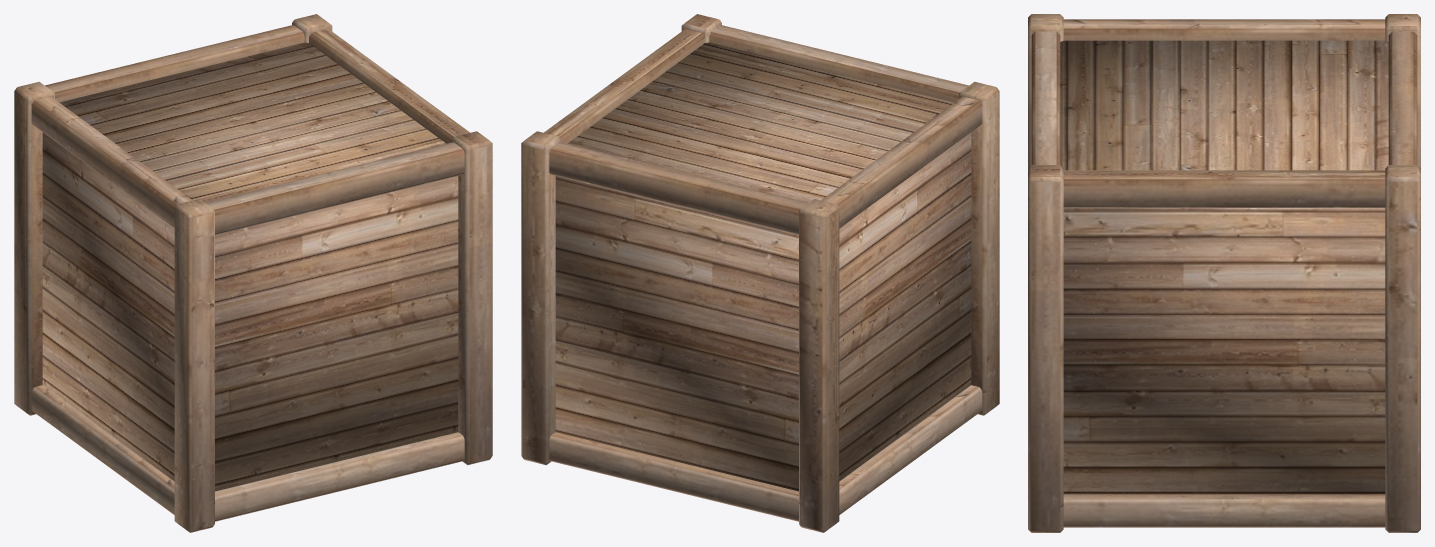
File: WoodenBox_lod_300.obj
The picture shows the model from 3 angles, left to right: view 1: azimuth 30°, elevation 25°; view 2: azimuth 150°, elevation 25°; view 3: azimuth 270°, elevation 25°; orthographic projection. The views are drawn at different scales.
Size of the model in its own units: 1 by 1 by 1.
